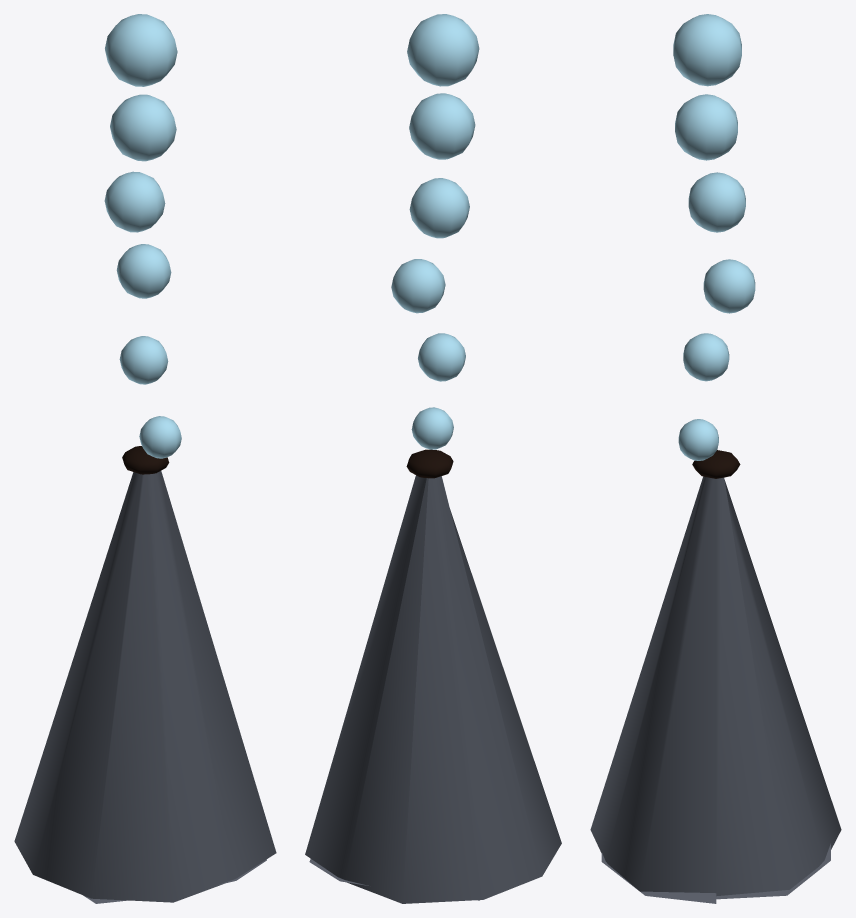
File: bubble_chimney.glb
3 views of the same model, side by side, from view 1: azimuth 30°, elevation 25°; view 2: azimuth 150°, elevation 25°; view 3: azimuth 270°, elevation 25° (orthographic).
Visible parts, largest first — view 1: bubble_chimney; view 2: bubble_chimney; view 3: bubble_chimney.
Part boxes in pixels (x1,y1,x2,y2): bubble_chimney: (14,14,276,903); bubble_chimney: (305,14,561,903); bubble_chimney: (590,14,841,903).
Bounding box in the file's own units: 0.4133 × 1.53 × 0.4162.
